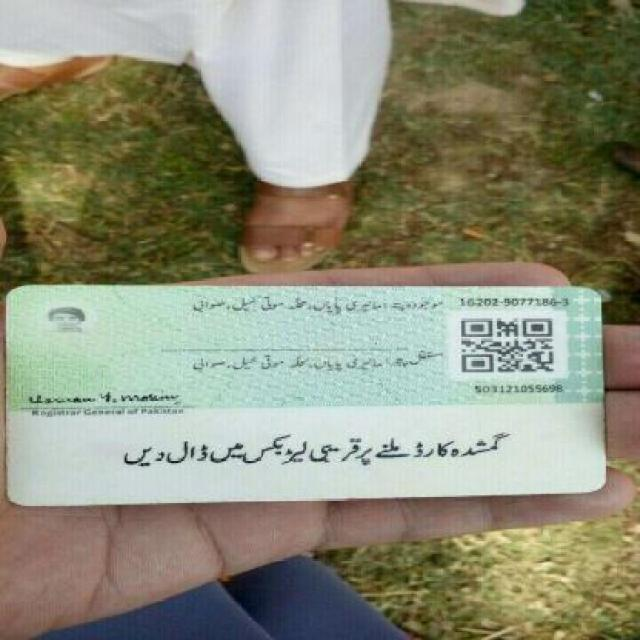Back: (7, 277, 616, 506)
